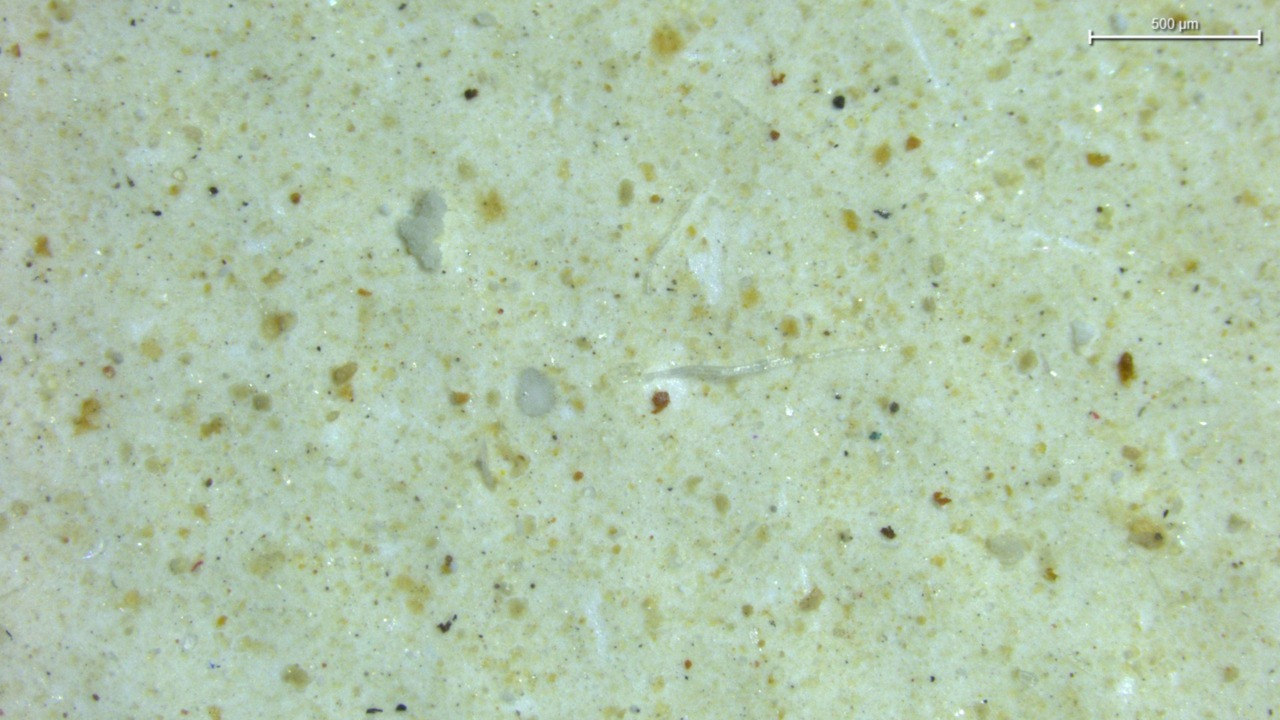microplastic_fragment: (398, 190, 446, 271), (517, 369, 555, 417)
